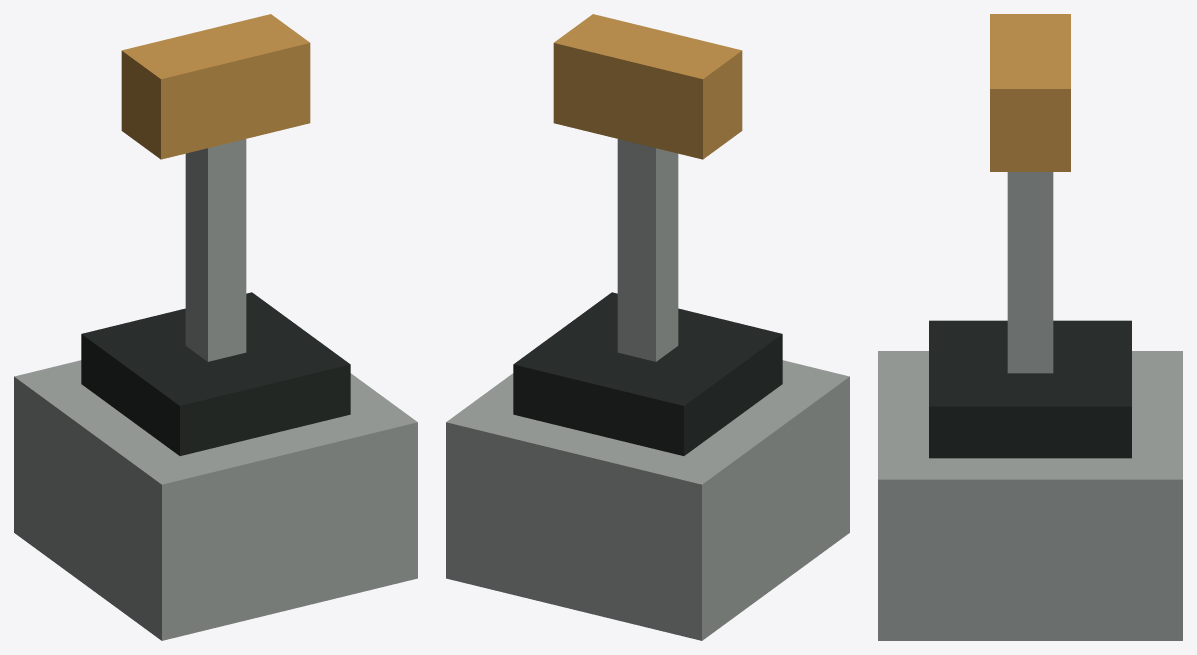
File: SignalSwitch.glb
3 renders of one model, left to right at view 1: azimuth 30°, elevation 25°; view 2: azimuth 150°, elevation 25°; view 3: azimuth 270°, elevation 25°, orthographic. The views are drawn at different scales.
Parts seen in each view (by area): view 1: SignalSwitch; view 2: SignalSwitch; view 3: SignalSwitch.
Boxes of the visible parts, x1=… form: SignalSwitch: x1=14, y1=14, x2=417, y2=640; SignalSwitch: x1=446, y1=14, x2=849, y2=640; SignalSwitch: x1=878, y1=14, x2=1182, y2=640.
Size of the model in its own units: 0.12 by 0.228 by 0.12.
